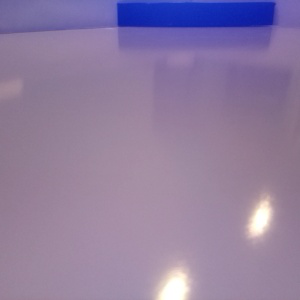zone: (116, 2, 275, 27)
